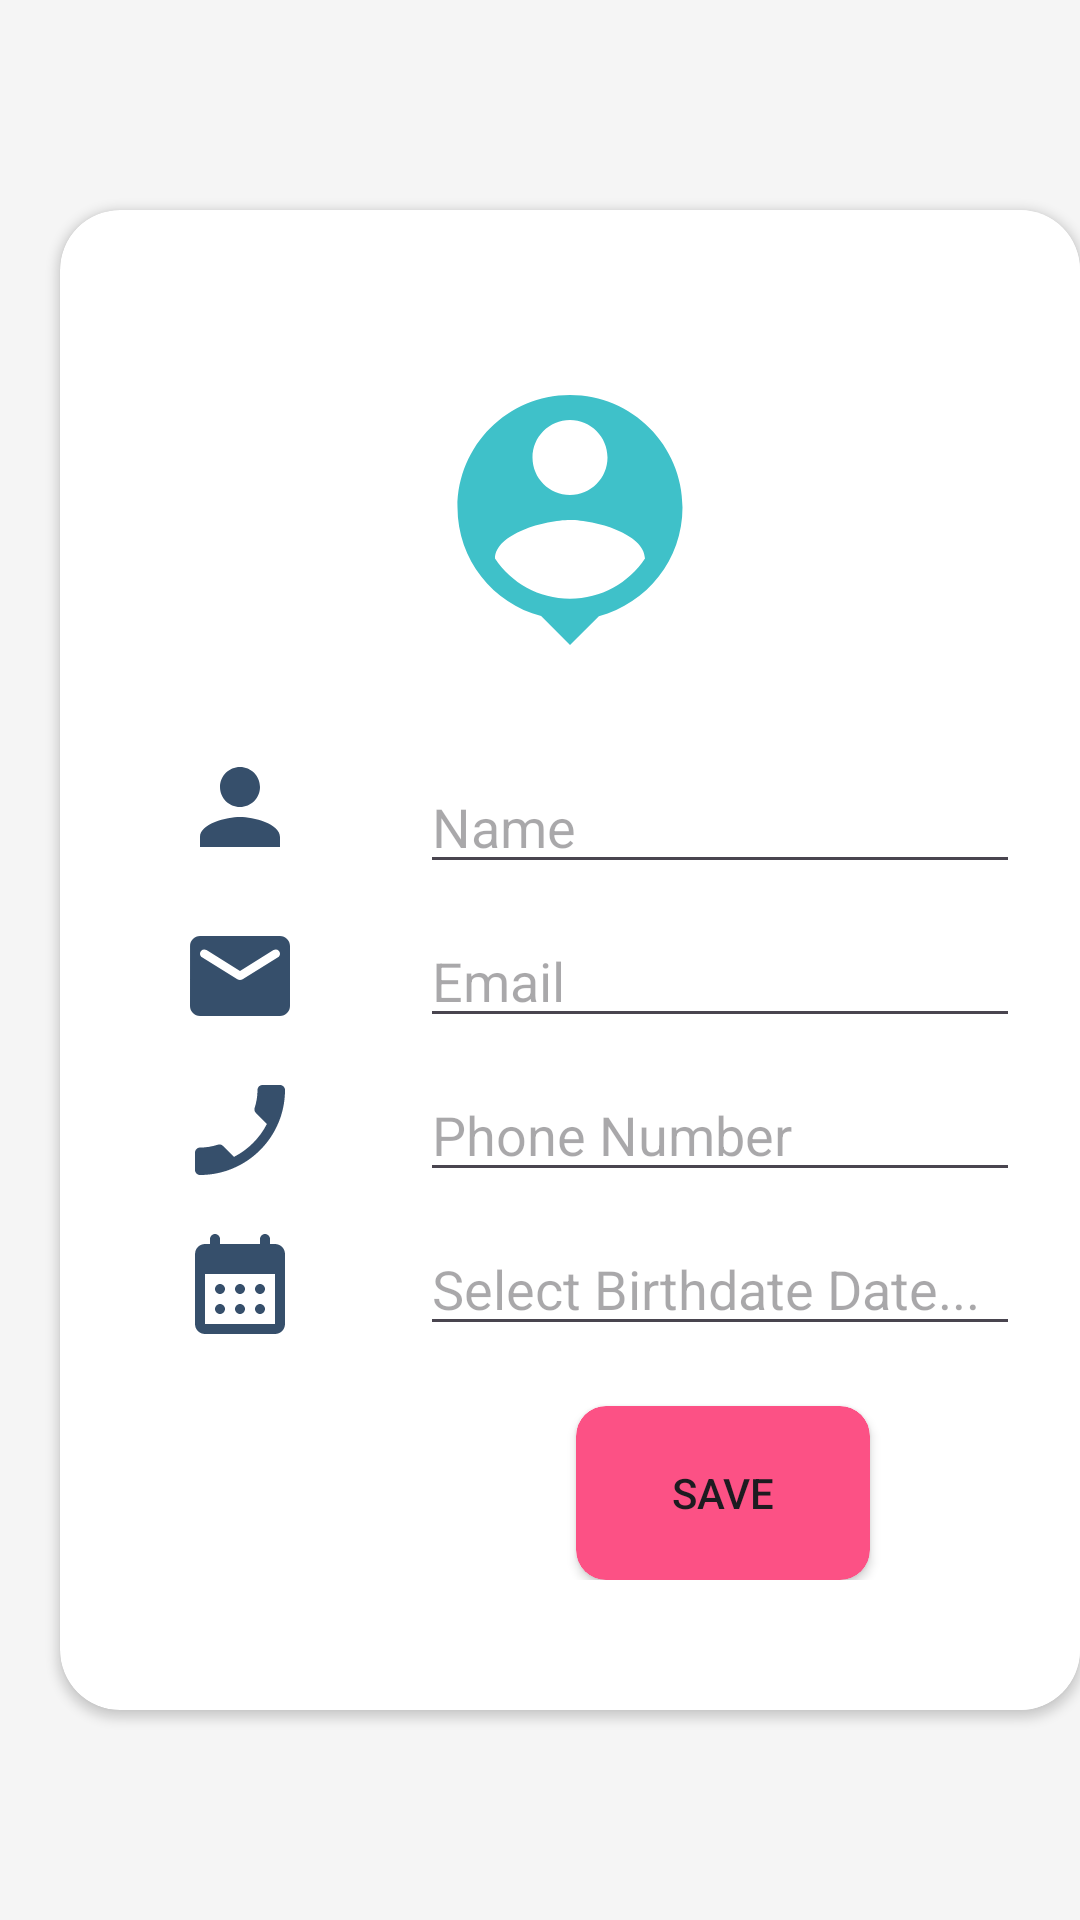

Icon click points for this 1080w x 1920h phone screenshot, format [x,y]:
calendar: [240,1284]
person: [240,807]
person pin: [570,520]
